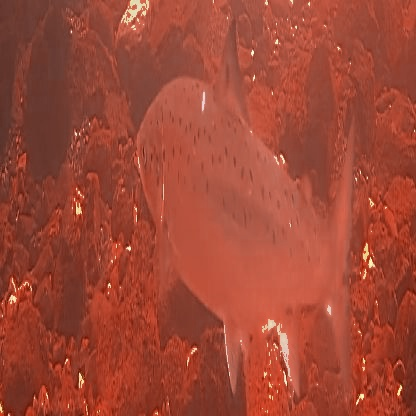salmon: (135, 3, 359, 407)
